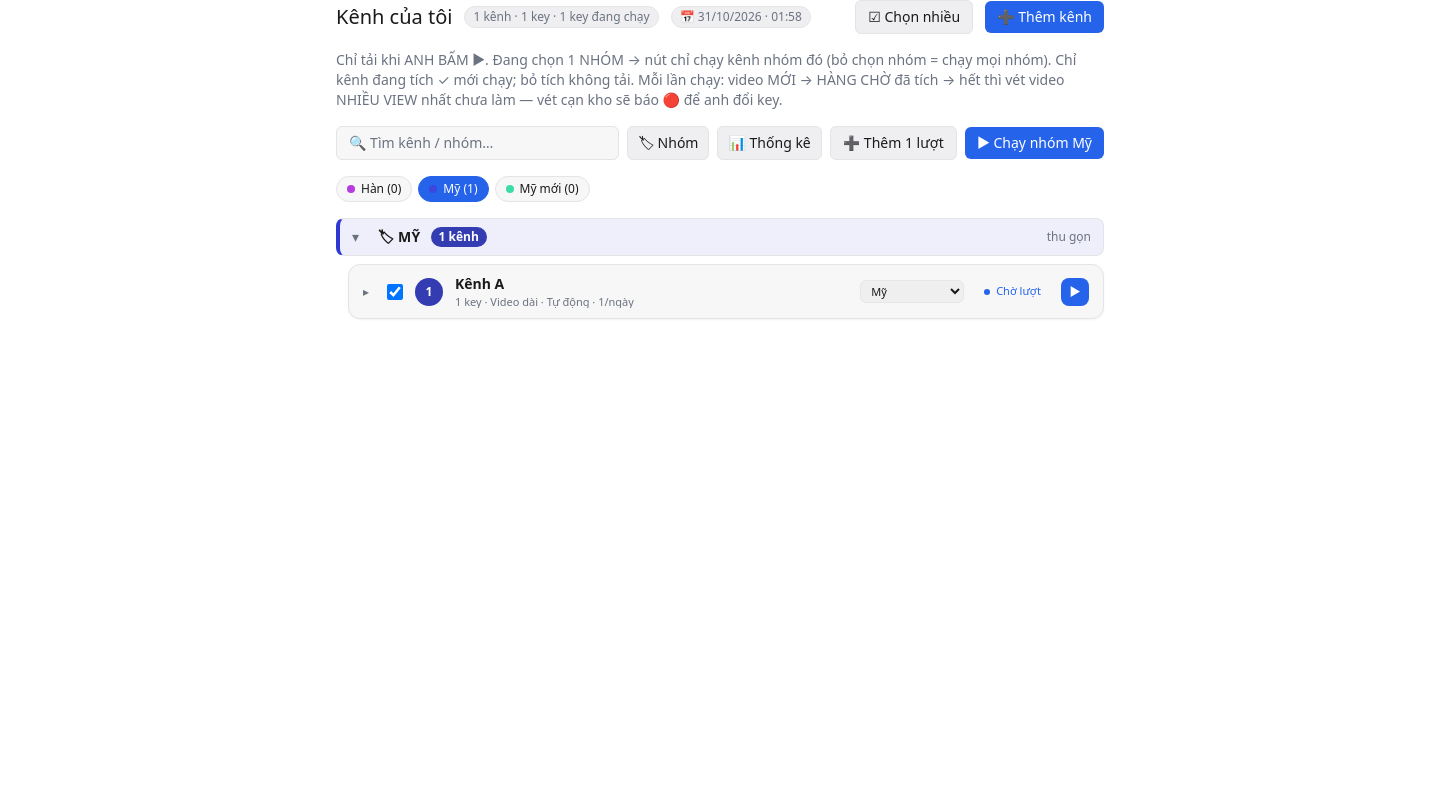
Test: LỖI 3 — thêm TRÙNG link phải BÁO, và KHÔNG ghi đè gì › link đã có → hiện lỗi nói RÕ kênh nào, và KHÔNG gọi lệnh nào
Expected: the dropdown is shown, [860,280,964,303]
Click the button "➕ Thêm kênh": (1045, 17) [985,1,1104,33]
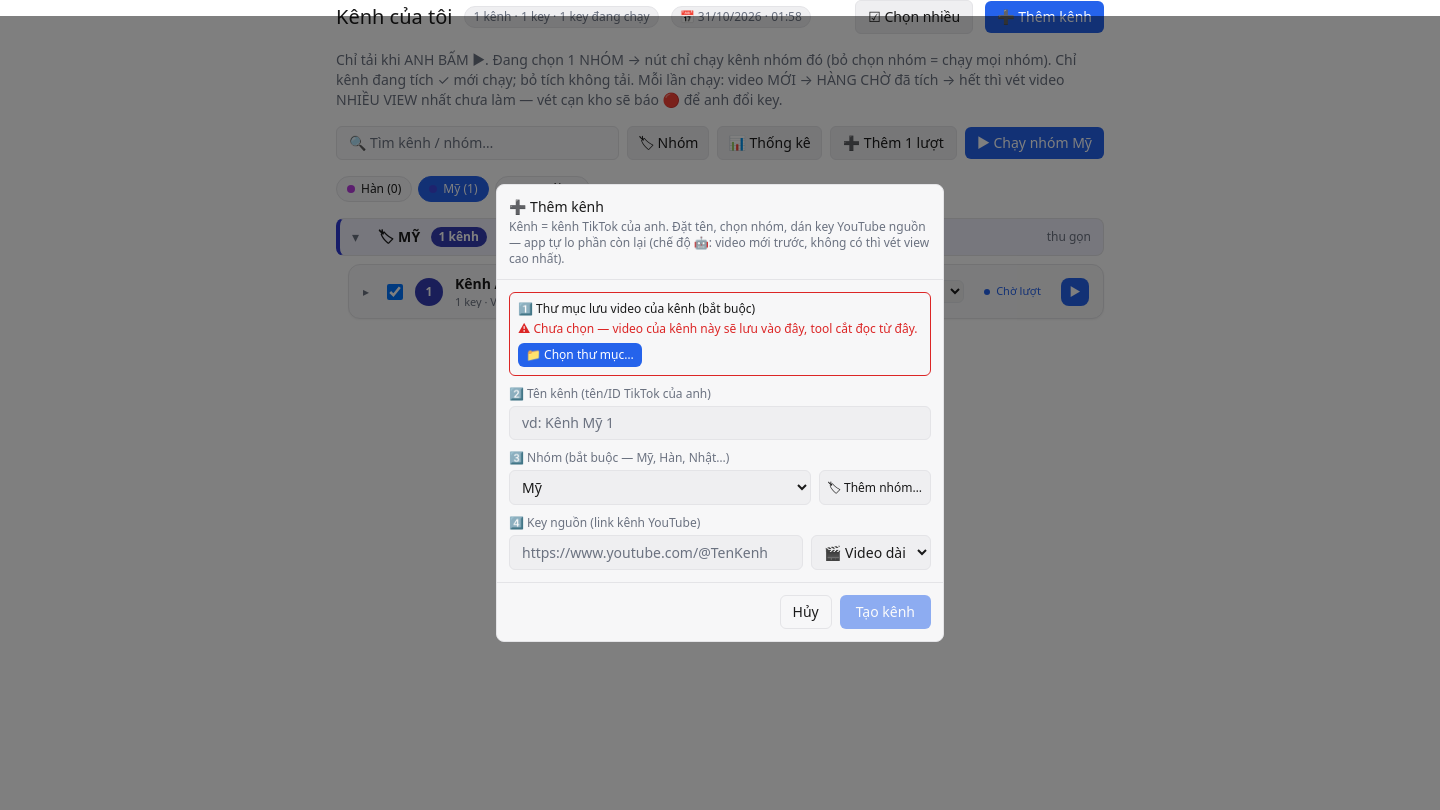
Expected: the 1st dropdown is shown, [509,470,810,505]
In the field with placeholder "vd: Kênh Mỹ 1": (720, 423) [509,406,931,440], type "Kênh Mới"
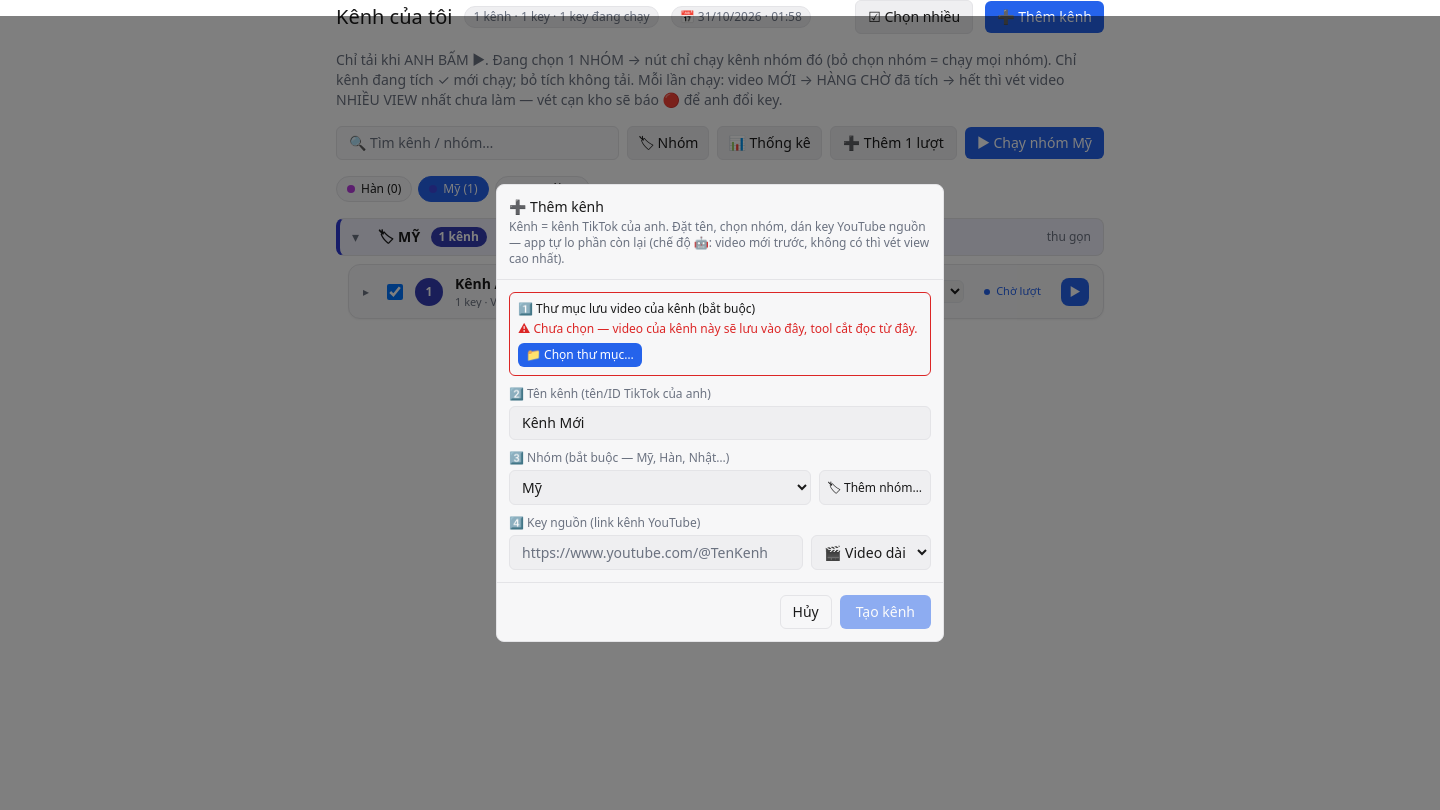
In the field with placeholder "https://www.youtube.com/@TenKenh": (656, 552) [509,535,803,570], type "https://youtube.com/@trung"
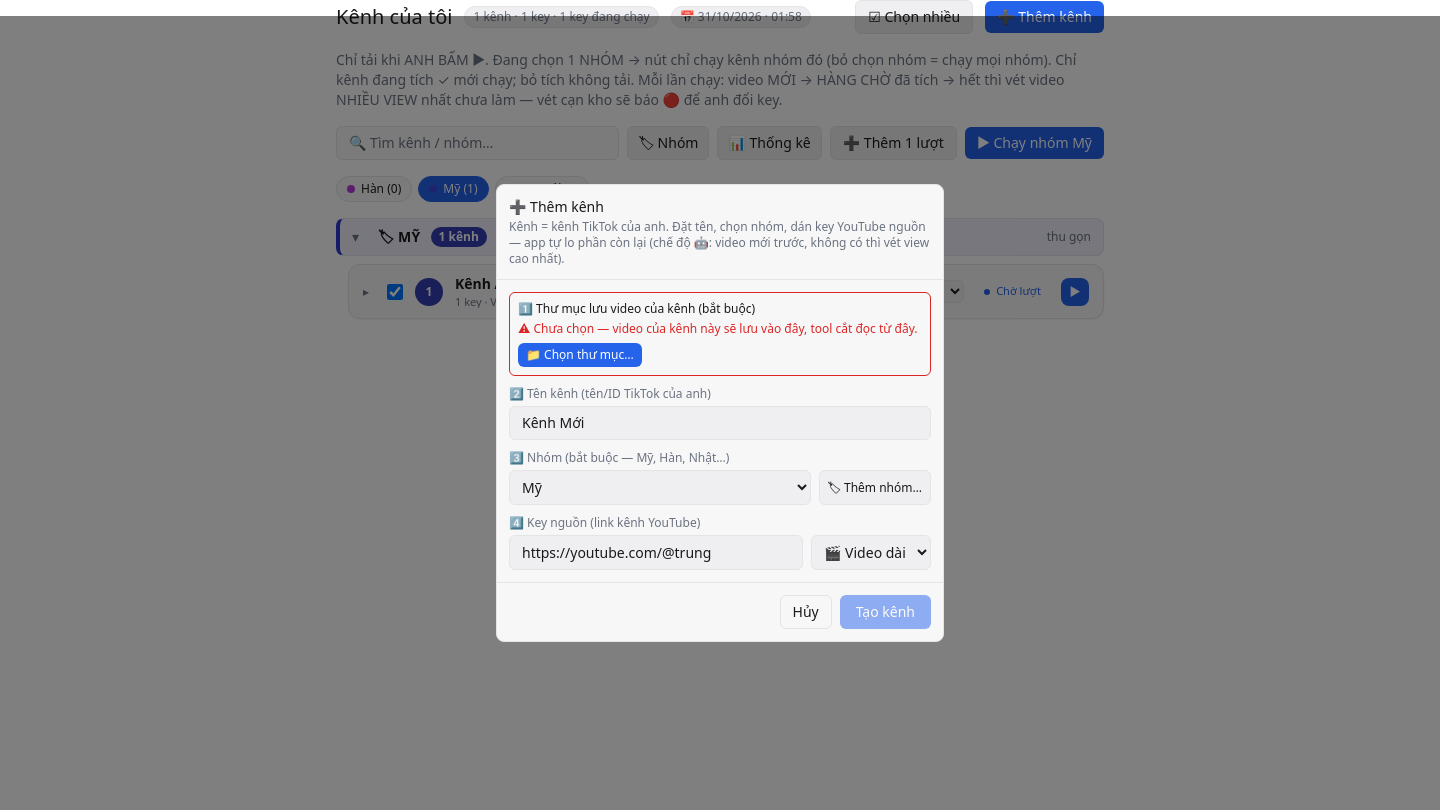
Click the button "📁 Chọn thư mục…": (580, 355) [518,343,642,367]
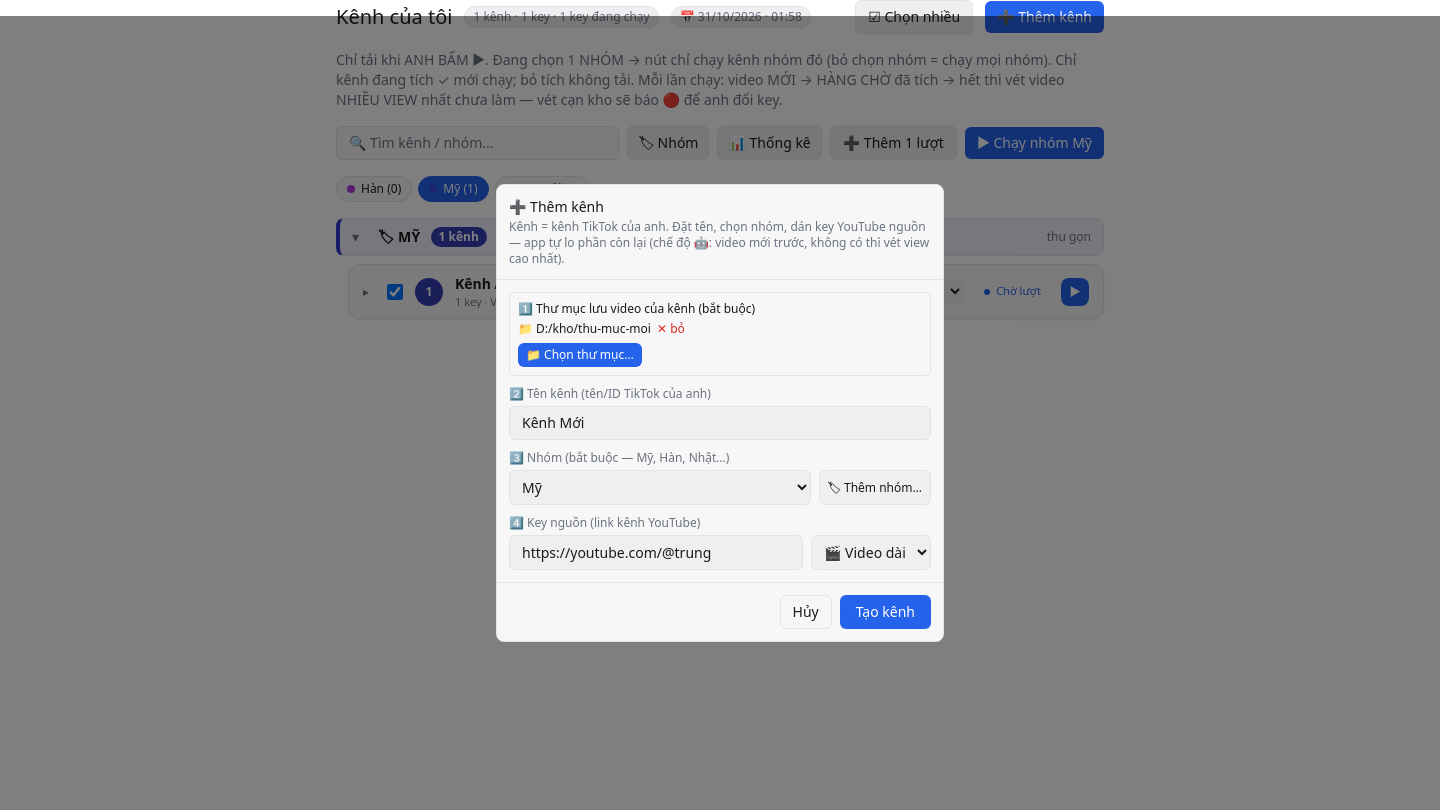
Expected: the text "📁 D:/kho/thu-muc-moi ✕ bỏ" is shown, [518,320,685,337]
Expected: the button "Tạo kênh" is enabled
Click the button "Tạo kênh": (885, 612) [840,595,931,629]
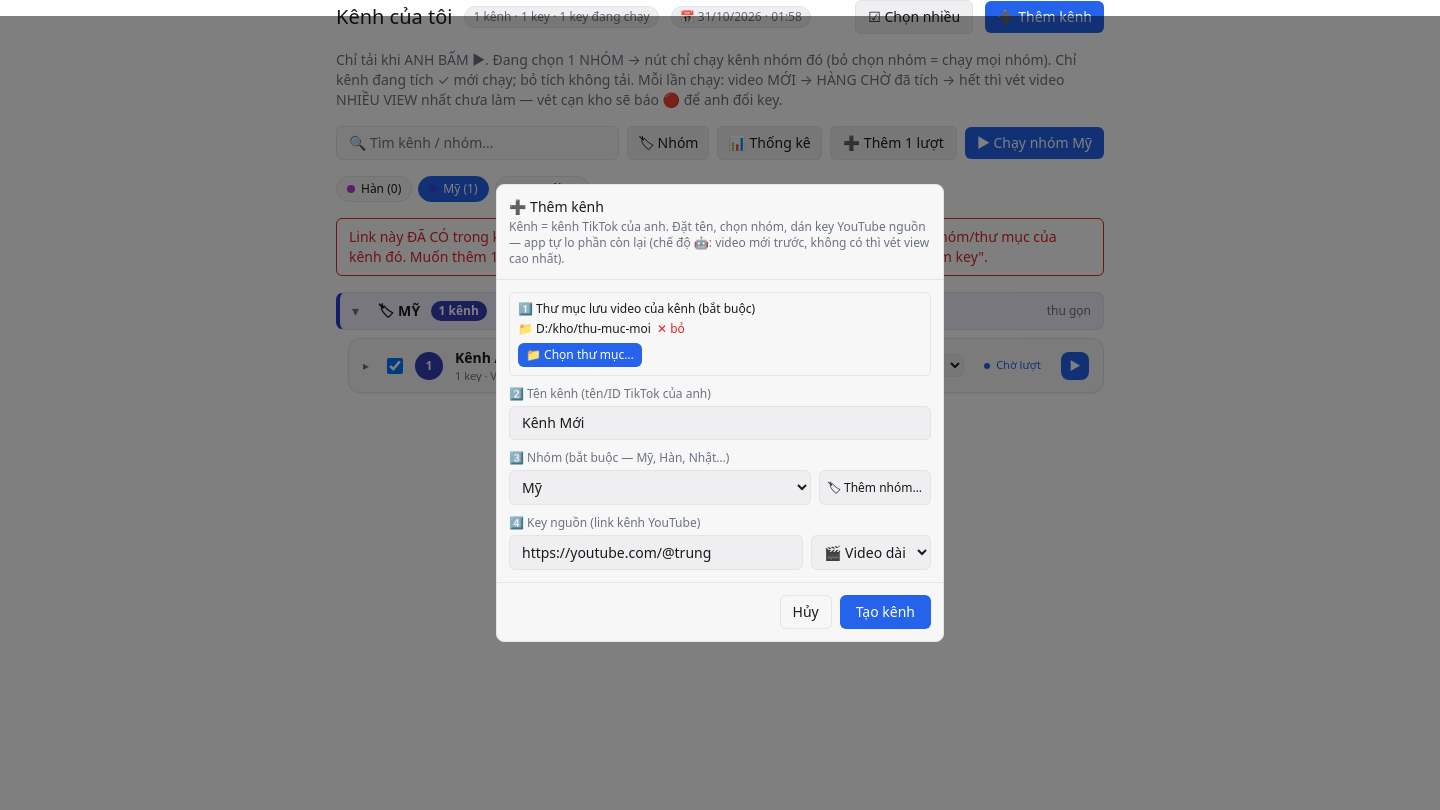
Expected: the text "ĐÃ CÓ trong kênh" shows "Kênh A", [349,227,1057,266]
Expected: the text "ĐÃ CÓ trong kênh" shows "Mỹ", [349,227,1057,266]
